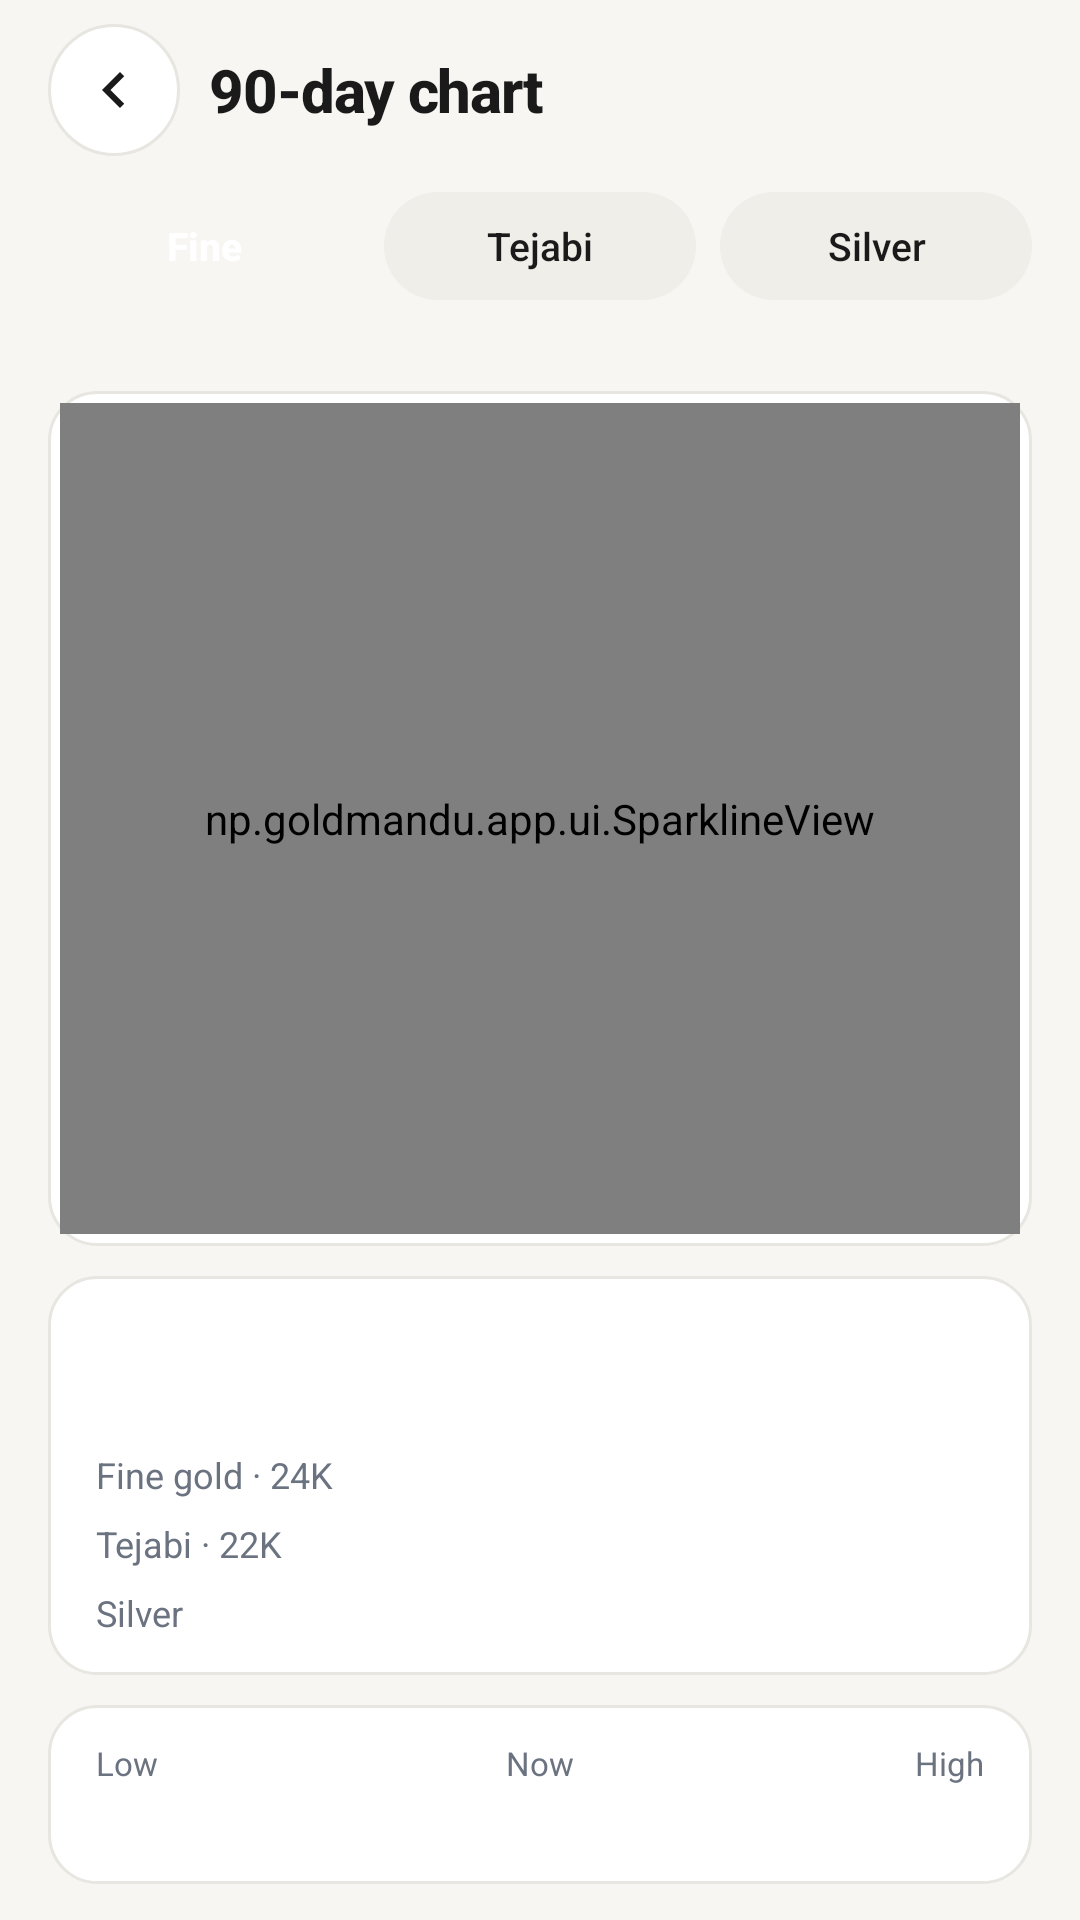

Icons on this 1080 × 1920 Android screen, each with its box as {"x1": x1, "y1": y1, "x2": x2, "y2": y2}:
Back: {"x1": 48, "y1": 24, "x2": 180, "y2": 156}
